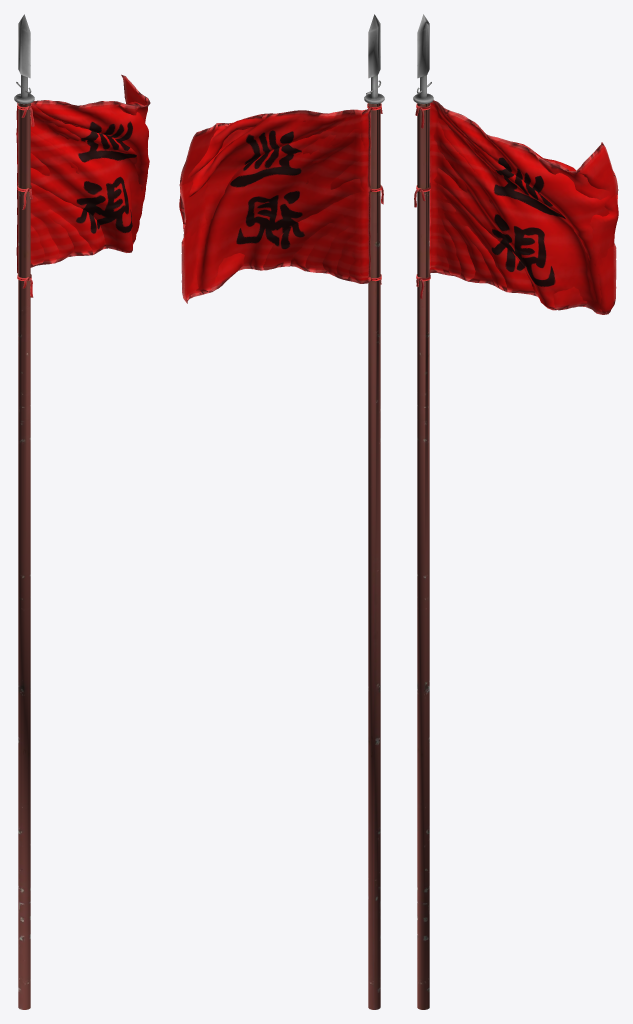
Rendered from flag_sunsi.glb.
The picture shows the model from 3 angles, left to right: view 1: azimuth 30°, elevation 25°; view 2: azimuth 150°, elevation 25°; view 3: azimuth 330°, elevation 25°; orthographic projection.
Parts seen in each view (by area): view 1: Object_4; view 2: Object_4; view 3: Object_4.
Boxes of the visible parts, left/top/right/bottom form: Object_4: left=14, top=14, right=150, bottom=1009; Object_4: left=179, top=14, right=384, bottom=1009; Object_4: left=413, top=14, right=618, bottom=1009.
Bounding box in the file's own units: 0.8033 × 4.77 × 0.458.
Materials: 1 (1 with a texture image).
